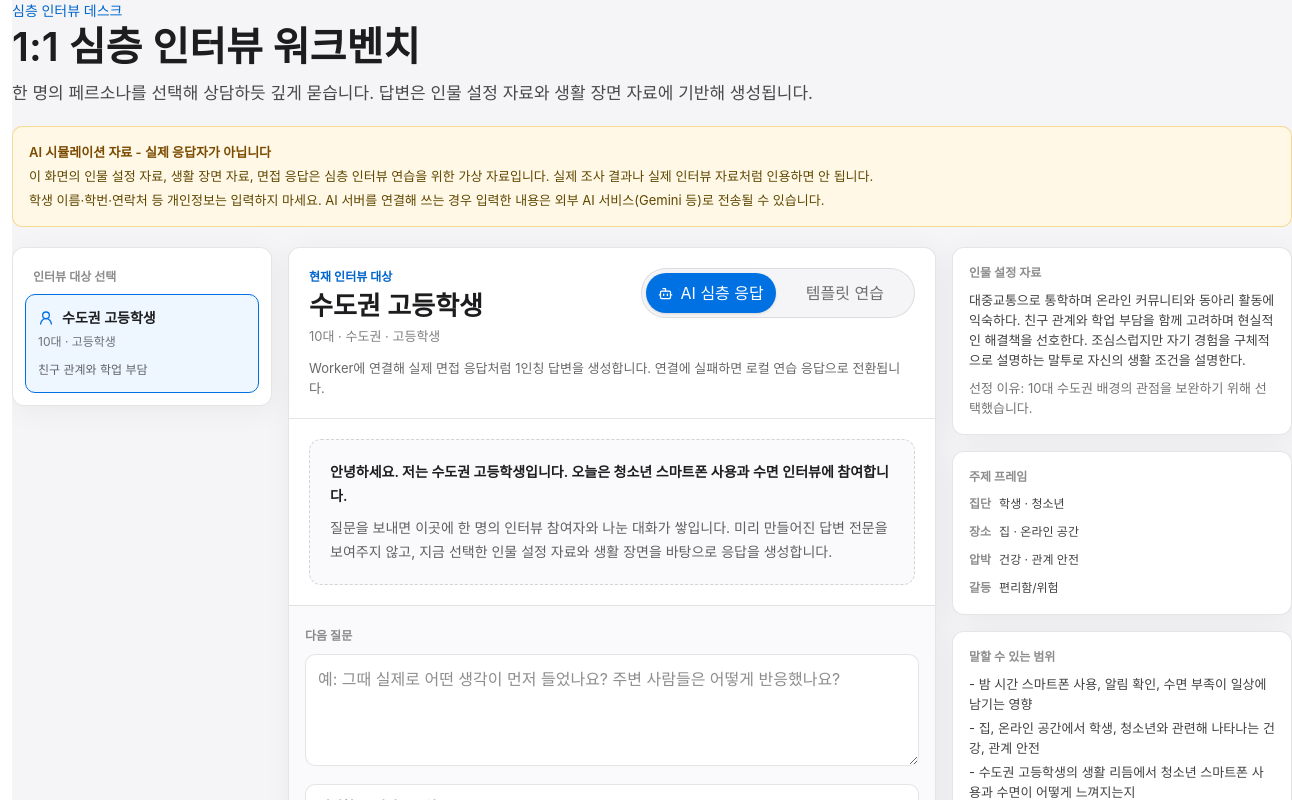
keeps answer evidence collapsed until the student opens it
Type "What happened before sleeping?" into the text box. click: (612, 710)
box: [305, 654, 919, 766]
(page scrolled)
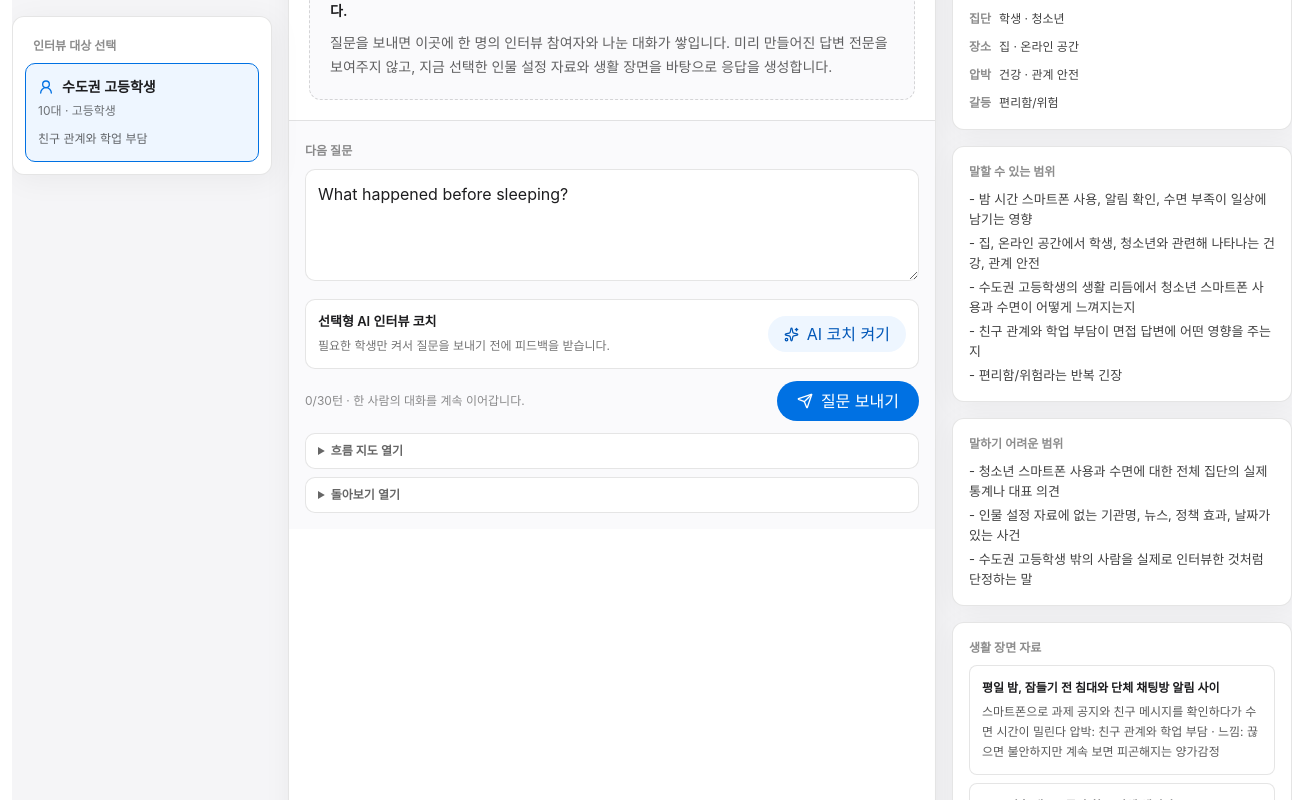
Click the button "질문 보내기". click: (848, 401)
box: [777, 381, 919, 421]
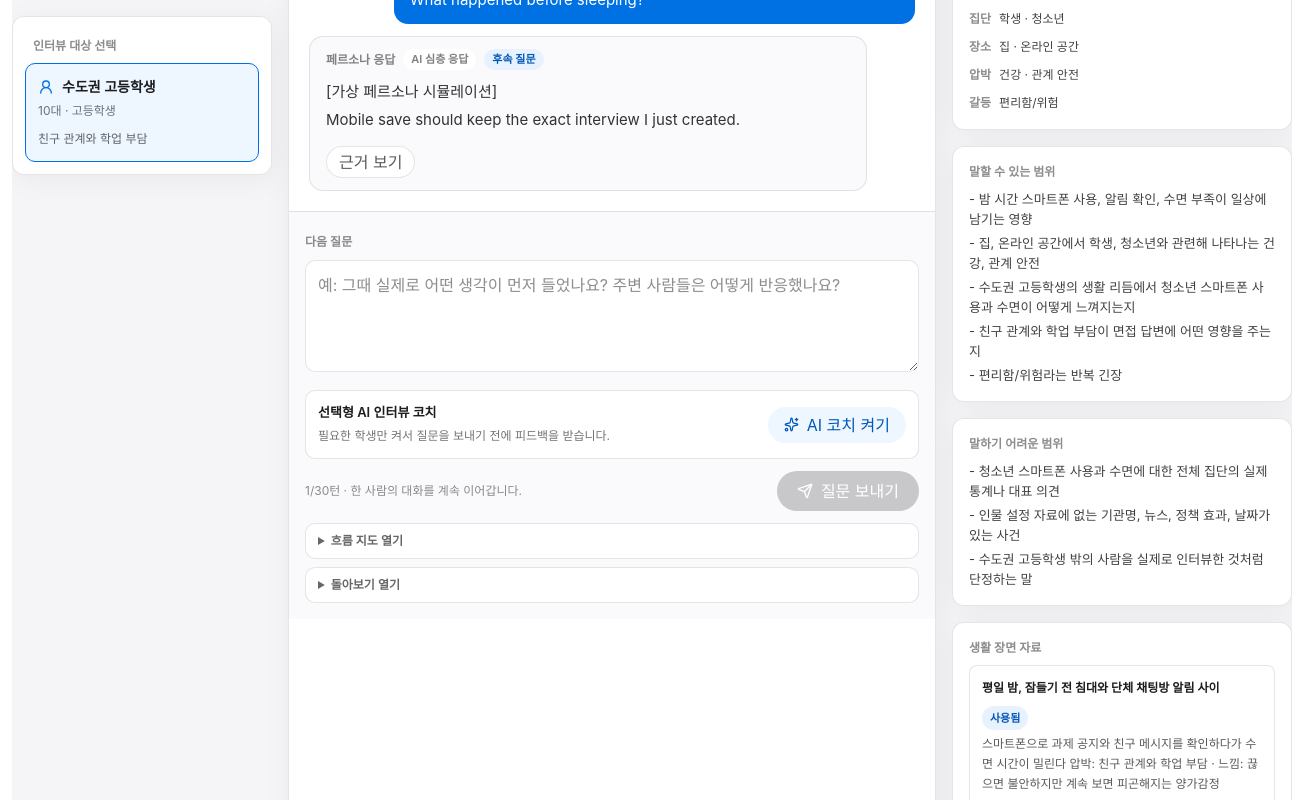
Expected: the text "침실 장면을 바탕으로 한 답변입니다." is not shown
Result: the text "exact interview" is shown at [326, 82, 740, 129]
Result: the button "근거 보기" is shown
Click the button "근거 보기". click: (371, 162)
box: [326, 146, 415, 178]
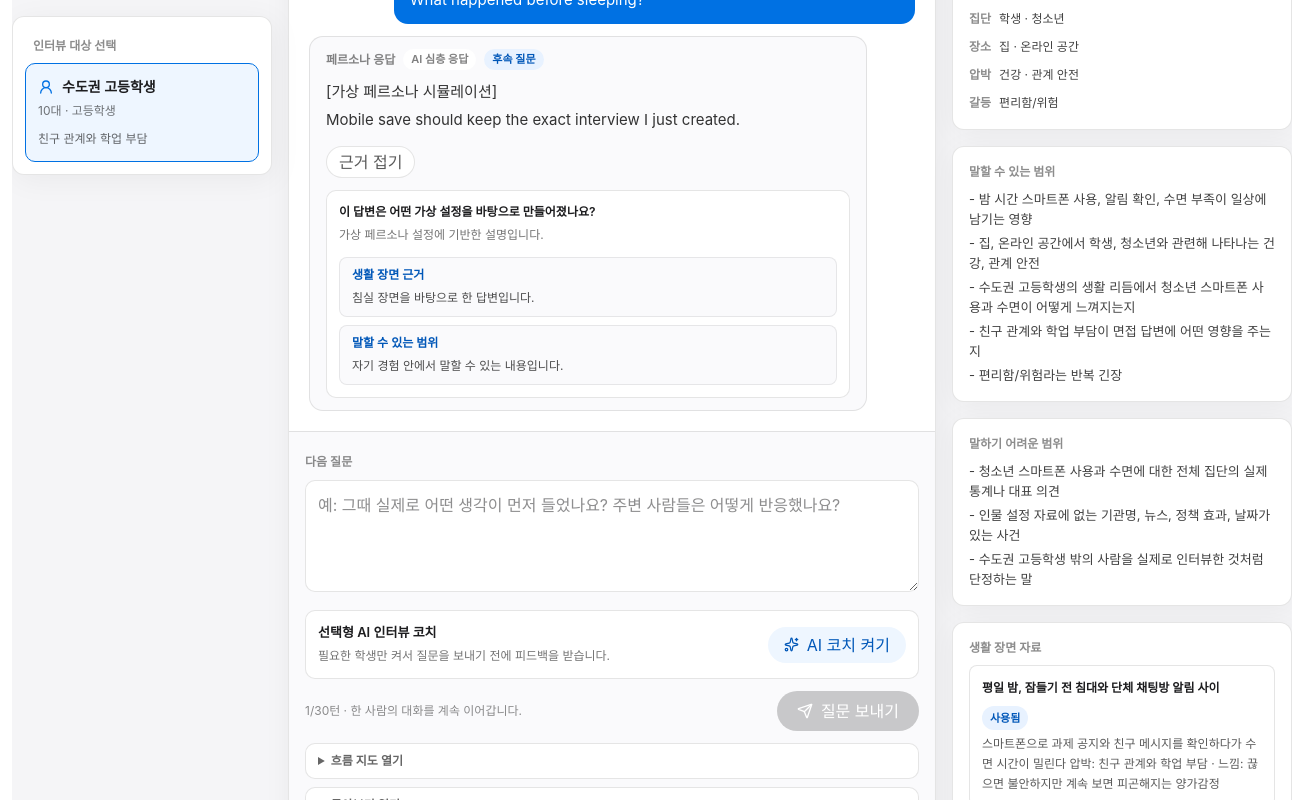
Result: the text "이 답변은 어떤 가상 설정을 바탕으로 만들어졌나요?" is shown at [339, 204, 596, 219]
Result: the text "생활 장면 근거" is shown at [352, 267, 424, 282]
Result: the text "침실 장면을 바탕으로 한 답변입니다." is shown at [352, 290, 535, 305]
